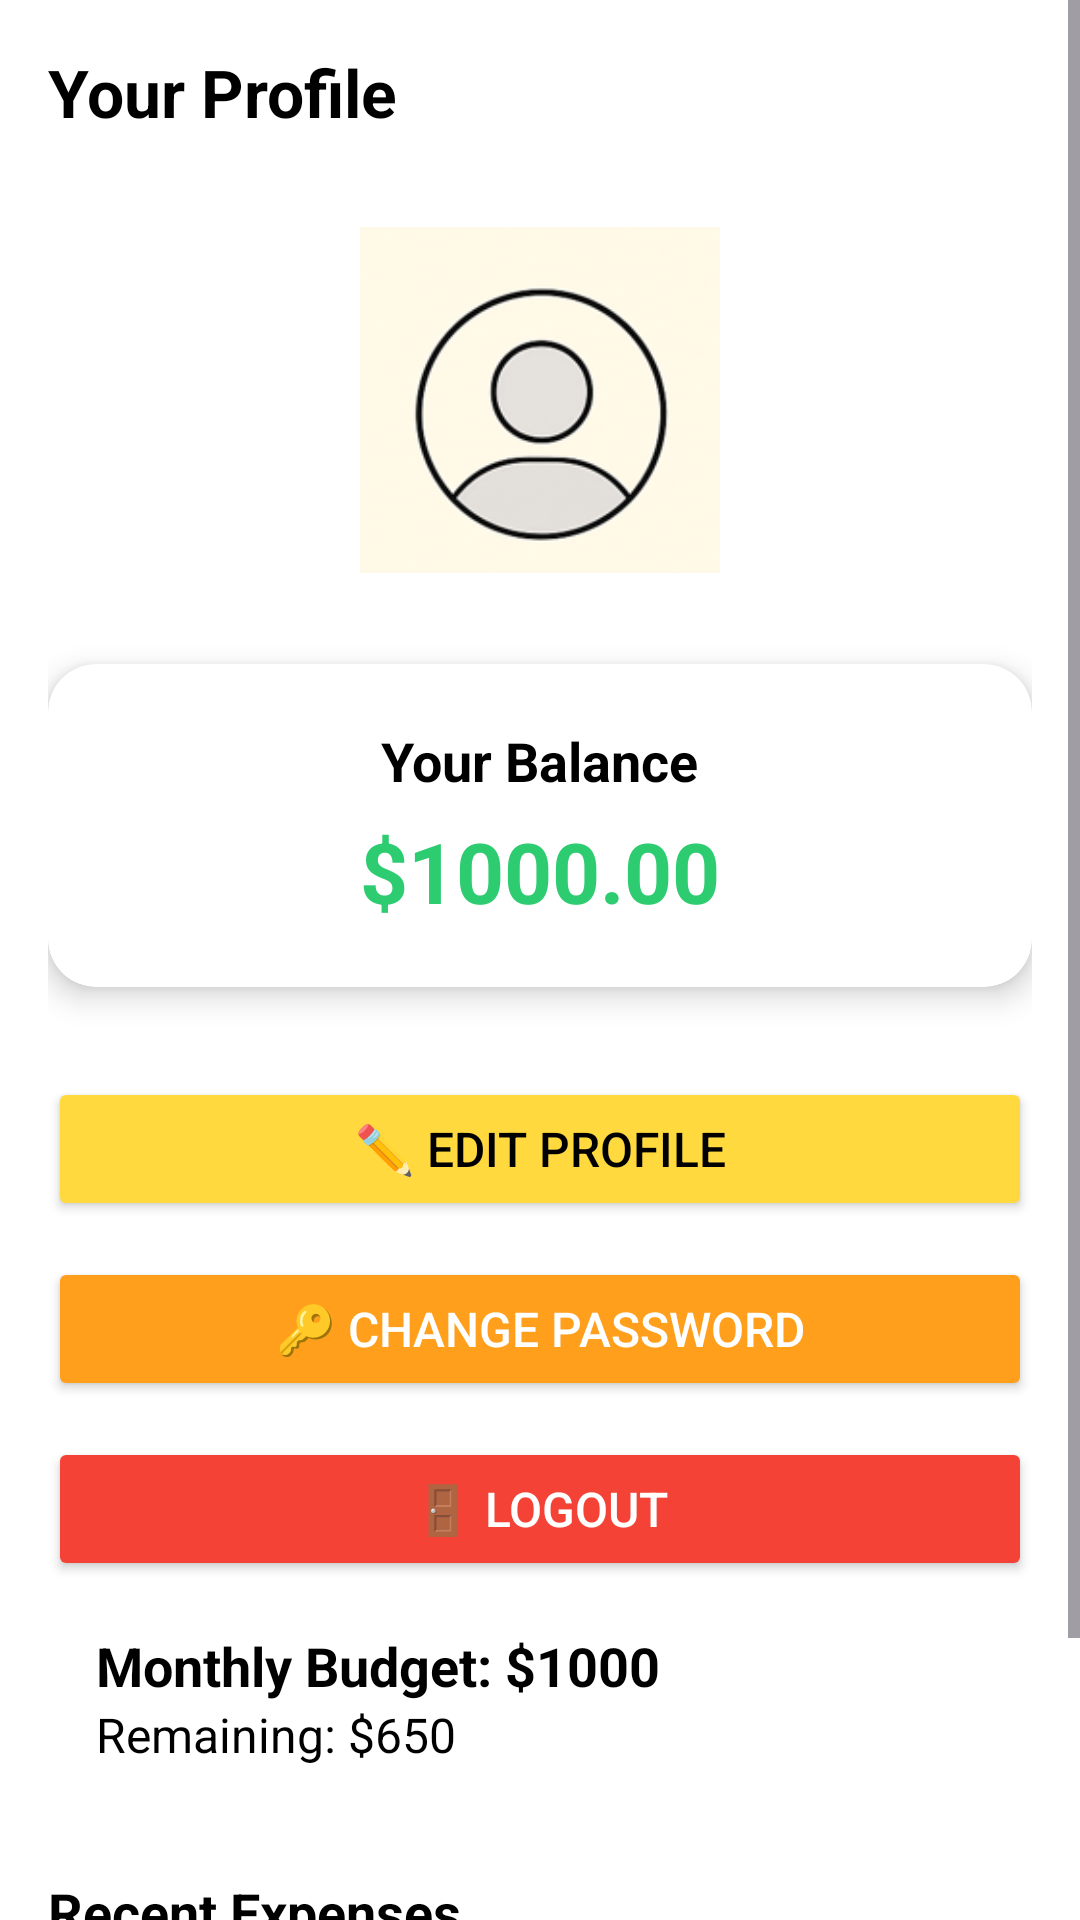

Locate icon controls on the screen. Image size 1080x1920, boxes as (x1, y1, x2, y2).
profilepic: (360, 227, 720, 573)
